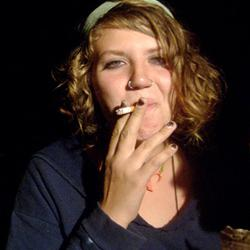smoking: (114, 96, 162, 121)
